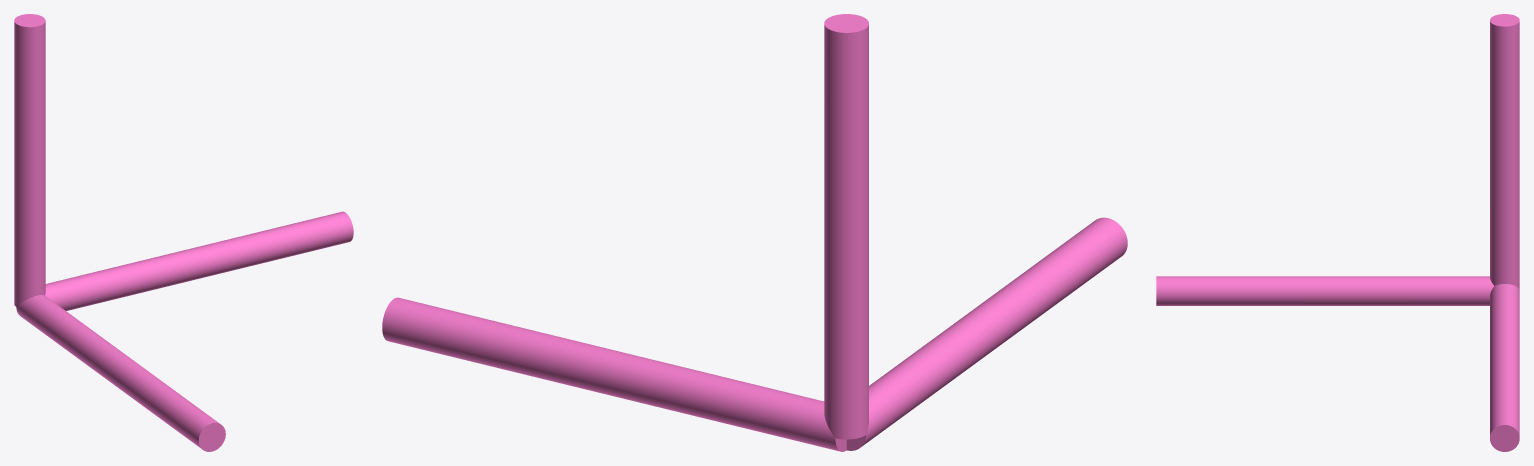
Rendered from triad_pink.obj.
3 renders of one model, left to right at view 1: azimuth 30°, elevation 25°; view 2: azimuth 150°, elevation 25°; view 3: azimuth 270°, elevation 25°, orthographic. The views are drawn at different scales.
Parts seen in each view (by area): view 1: mesh7, mesh1, mesh2, mesh3, mesh0; view 2: mesh7, mesh1, mesh2; view 3: mesh2, mesh1, mesh7, mesh8.
Boxes of the visible parts, bbox=[...] form: mesh7: bbox=[45, 211, 353, 310]; mesh1: bbox=[14, 21, 45, 306]; mesh2: bbox=[16, 295, 219, 448]; mesh3: bbox=[198, 423, 225, 451]; mesh0: bbox=[14, 14, 45, 27]; mesh7: bbox=[382, 297, 839, 451]; mesh1: bbox=[824, 25, 868, 439]; mesh2: bbox=[861, 217, 1127, 446]; mesh2: bbox=[1156, 276, 1493, 305]; mesh1: bbox=[1490, 21, 1519, 289]; mesh7: bbox=[1490, 284, 1519, 435]; mesh8: bbox=[1490, 425, 1519, 451].
Bounding box in the file's own units: 0.073 × 0.063 × 0.073.
